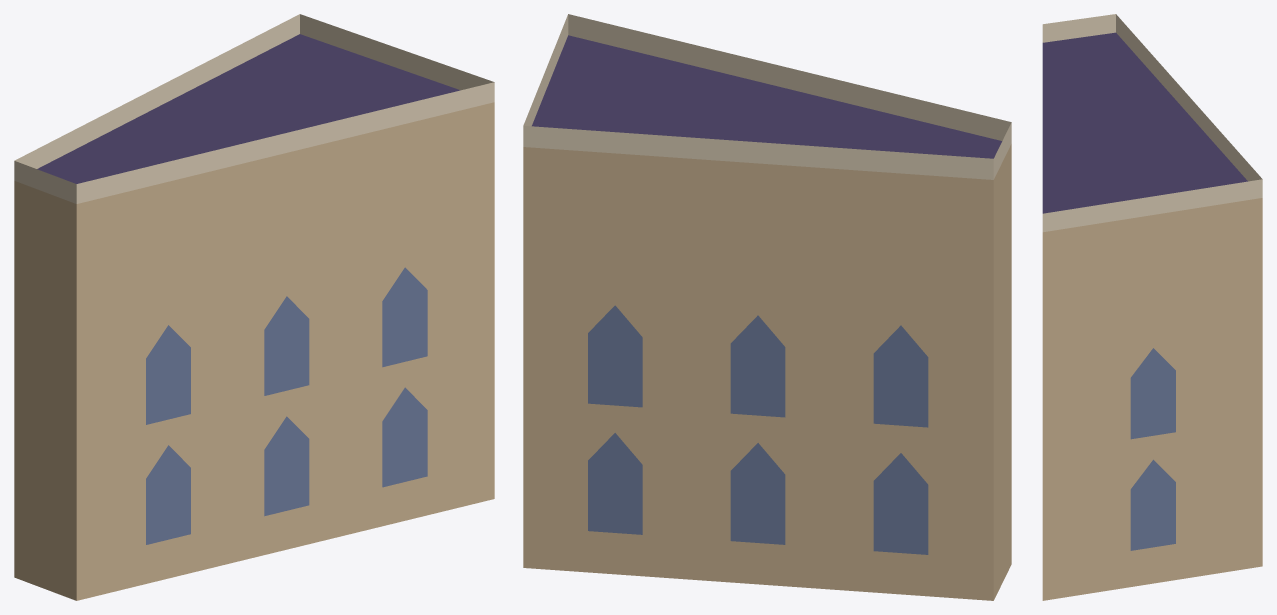
File: b-123-day.glb
3 views of the same model, side by side, from view 1: azimuth 30°, elevation 25°; view 2: azimuth 150°, elevation 25°; view 3: azimuth 270°, elevation 25° (orthographic). The views are drawn at different scales.
Parts seen in each view (by area): view 1: campus/b-123-day-0; view 2: campus/b-123-day-0; view 3: campus/b-123-day-0.
Part boxes in pixels (left/top/right/bottom): campus/b-123-day-0: left=14, top=14, right=494, bottom=600; campus/b-123-day-0: left=523, top=14, right=1011, bottom=600; campus/b-123-day-0: left=1042, top=14, right=1262, bottom=600.
Bounding box in the file's own units: 12.67 × 11.45 × 5.96.
